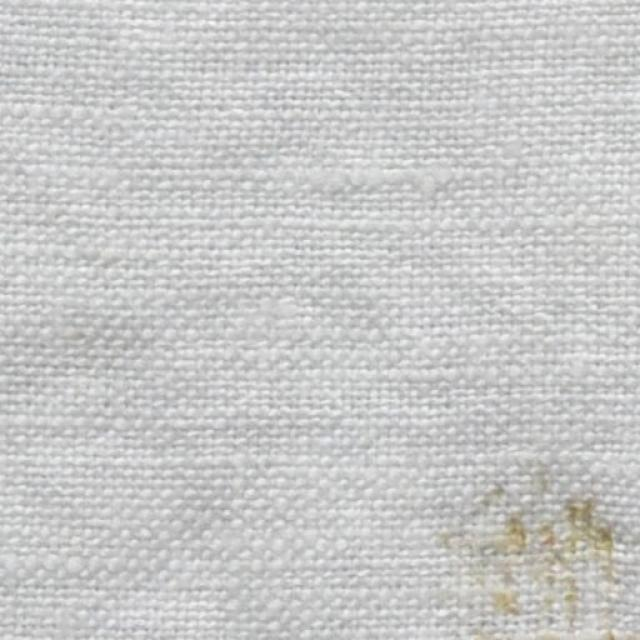Stain: (425, 482, 639, 639)
